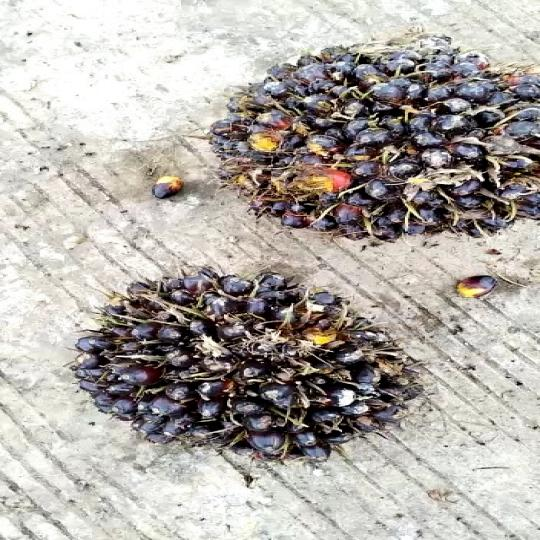mentah: (148, 40, 540, 260), (44, 255, 442, 463)
